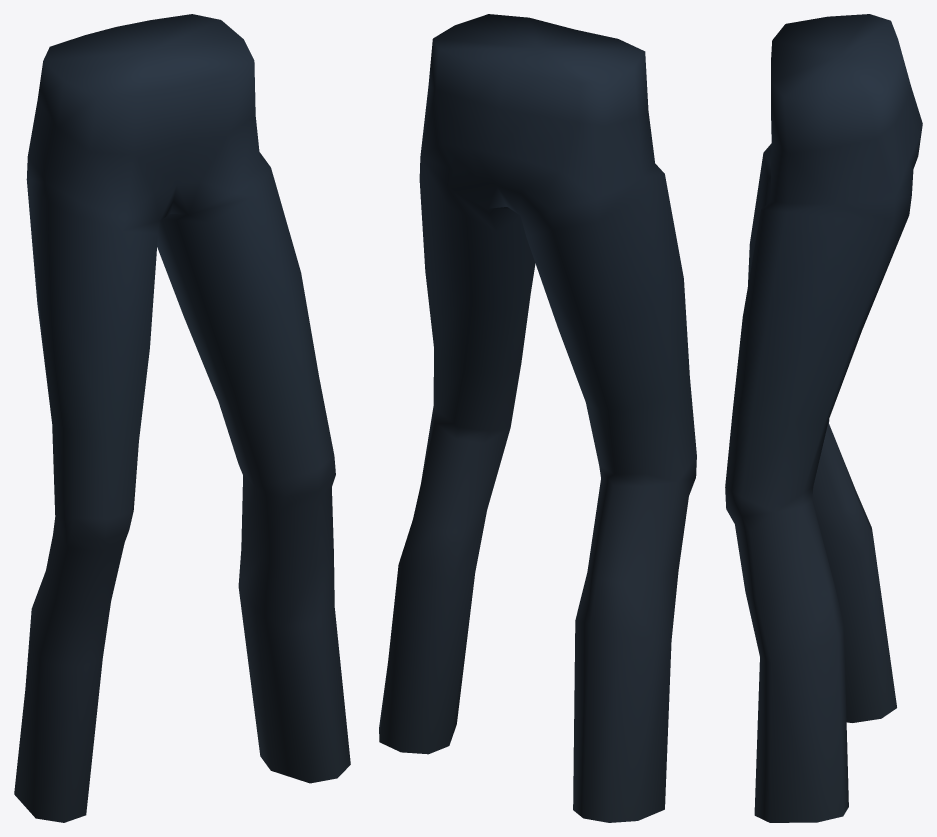
The model's file is _M_Doctor_Body_B.fbx.
3 renders of one model, left to right at view 1: azimuth 30°, elevation 25°; view 2: azimuth 150°, elevation 25°; view 3: azimuth 270°, elevation 25°, orthographic. The views are drawn at different scales.
Visible parts, largest first — view 1: _M_Doctor_Body_B; view 2: _M_Doctor_Body_B; view 3: _M_Doctor_Body_B.
Part boxes in pixels (bbox=[...]): _M_Doctor_Body_B: bbox=[14, 14, 350, 822]; _M_Doctor_Body_B: bbox=[379, 14, 696, 822]; _M_Doctor_Body_B: bbox=[725, 14, 922, 822].
Size of the model in its own units: 42.98 by 105 by 26.88.
